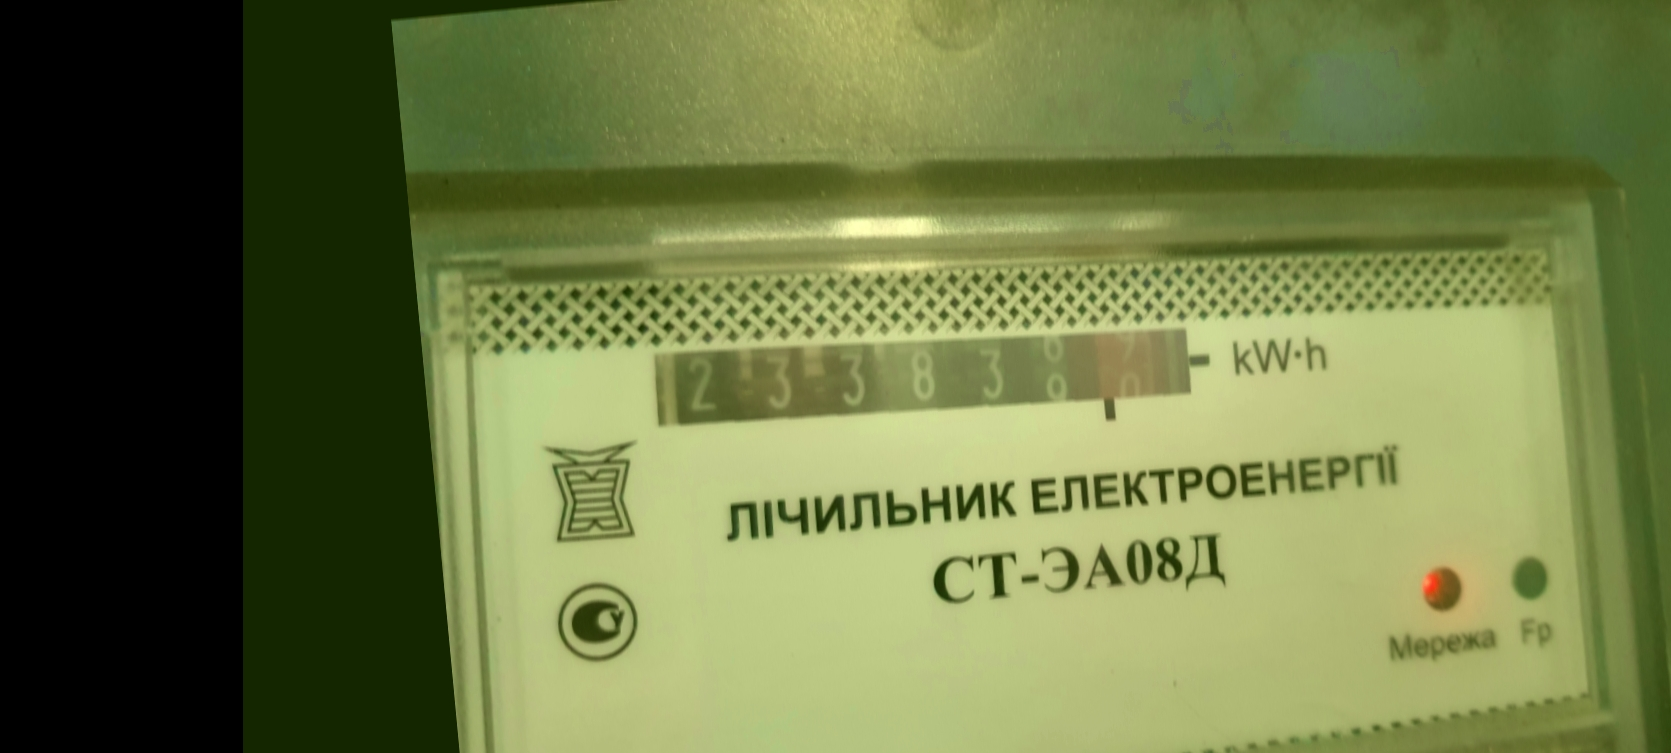0: (1118, 369, 1147, 404)
2: (683, 351, 727, 415)
3: (834, 345, 875, 411), (978, 341, 1012, 400), (765, 350, 798, 411)
8: (906, 343, 945, 404), (1042, 329, 1071, 363)
9: (1112, 324, 1146, 365), (1044, 369, 1076, 406)
screen: (624, 279, 1228, 490)
